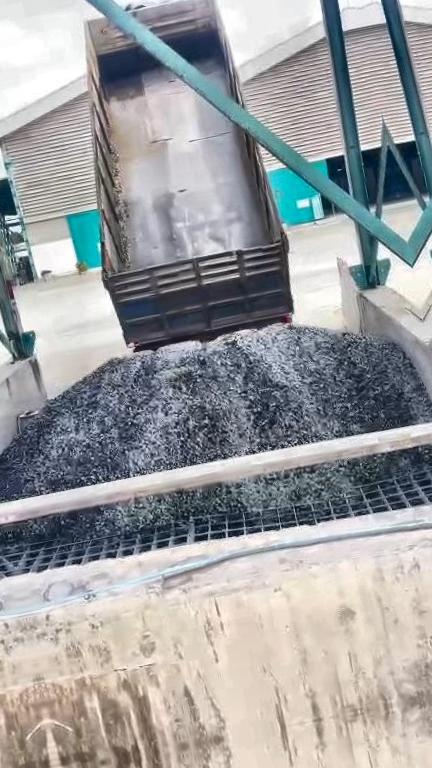gravel: (0, 326, 432, 500), (12, 451, 420, 539), (342, 442, 432, 486)
